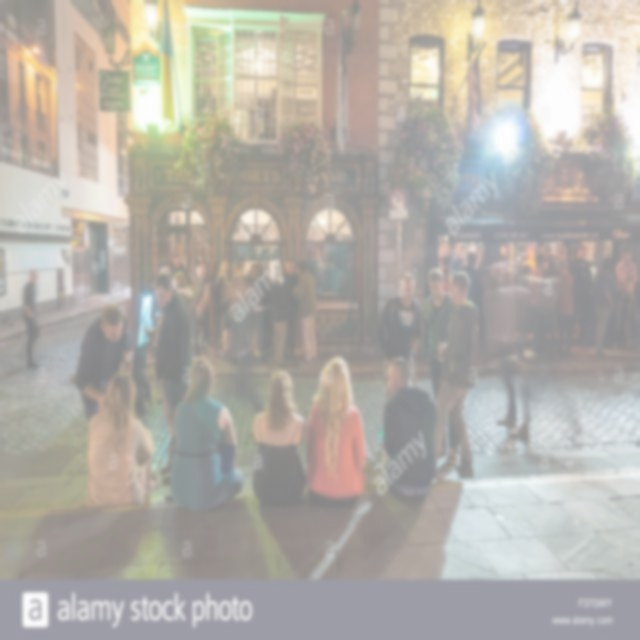pessoa: (168, 354, 244, 514), (428, 270, 482, 482), (86, 371, 160, 508), (150, 270, 194, 485), (306, 354, 368, 504), (376, 356, 440, 498), (251, 367, 307, 502), (420, 268, 458, 458), (73, 301, 129, 424), (497, 369, 586, 444), (374, 270, 422, 396), (480, 260, 530, 366), (291, 256, 318, 368), (612, 246, 639, 352), (460, 252, 486, 362), (592, 255, 616, 358), (552, 256, 576, 358), (20, 266, 43, 371), (227, 259, 251, 355), (270, 265, 292, 368), (252, 262, 272, 364), (568, 244, 592, 328), (172, 270, 197, 350), (214, 260, 233, 360), (282, 258, 300, 363), (529, 252, 547, 354), (496, 240, 567, 262), (245, 262, 258, 358), (454, 234, 486, 268), (307, 254, 323, 299), (322, 255, 339, 292), (442, 240, 462, 270), (166, 252, 187, 278), (191, 256, 209, 284), (541, 254, 557, 279), (436, 239, 448, 265), (442, 266, 452, 294), (156, 258, 172, 275), (198, 324, 207, 350), (174, 240, 184, 254)
